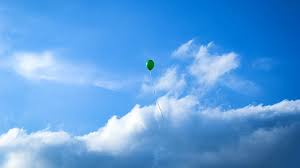Balloon: (146, 58, 154, 71)
